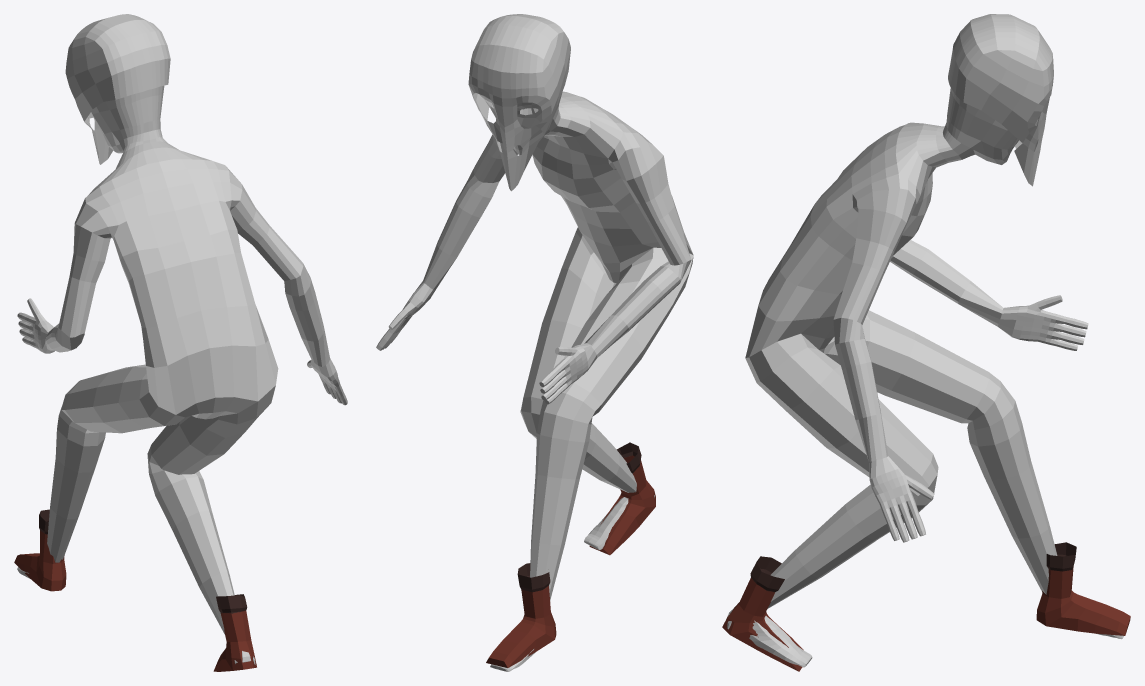
The model's file is saltoadelante_000137.obj.
3 views of the same model, side by side, from view 1: azimuth 30°, elevation 25°; view 2: azimuth 150°, elevation 25°; view 3: azimuth 270°, elevation 25° (orthographic). The views are drawn at different scales.
Visible parts, largest first — view 1: Plane.002_Plane.001, Plane.003, Plane.004; view 2: Plane.002_Plane.001, Plane.004, Plane.003; view 3: Plane.002_Plane.001, Plane.004, Plane.003.
Boxes of the visible parts, x1=… form: Plane.002_Plane.001: x1=17, y1=14, x2=347, y2=664; Plane.003: x1=213, y1=594, x2=256, y2=671; Plane.004: x1=14, y1=509, x2=66, y2=591; Plane.002_Plane.001: x1=376, y1=14, x2=693, y2=671; Plane.004: x1=486, y1=563, x2=556, y2=667; Plane.003: x1=589, y1=442, x2=655, y2=555; Plane.002_Plane.001: x1=726, y1=14, x2=1123, y2=667; Plane.004: x1=1036, y1=542, x2=1130, y2=635; Plane.003: x1=722, y1=556, x2=803, y2=671.
Size of the model in its own units: 2.92 by 5.61 by 3.26.
